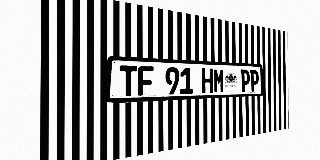1: (180, 67, 193, 94)
9: (165, 67, 179, 95)
F: (138, 66, 153, 96)
H: (202, 68, 213, 93)
M: (213, 68, 224, 93)
P: (241, 69, 250, 92), (250, 70, 259, 92)
T: (120, 65, 137, 96)
